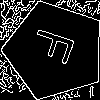F: (30, 25, 85, 69)
